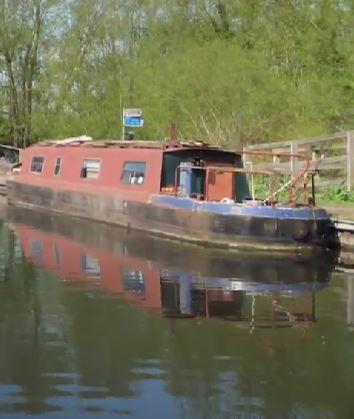Ship: (19, 136, 338, 252)
